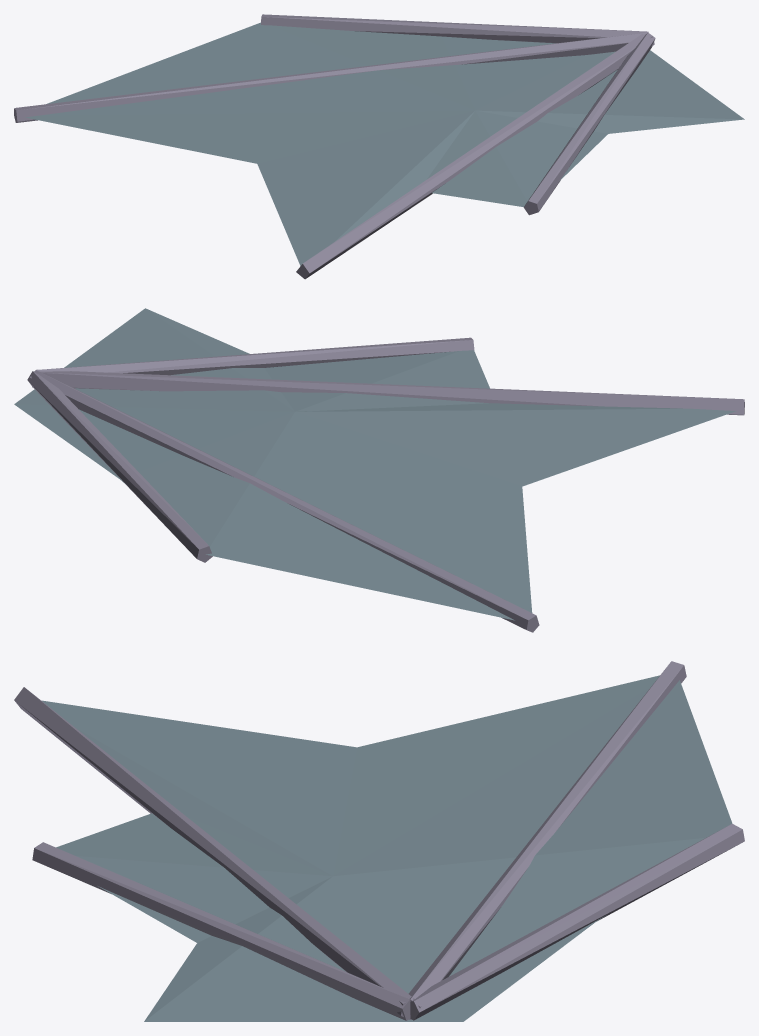
The model's file is wing_l_lod1.glb.
3 renders of one model, top to bottom at view 1: azimuth 30°, elevation 25°; view 2: azimuth 150°, elevation 25°; view 3: azimuth 270°, elevation 25°, orthographic. The views are drawn at different scales.
Visible parts, largest first — view 1: devil_wing_l_LOD1; view 2: devil_wing_l_LOD1; view 3: devil_wing_l_LOD1.
Part boxes in pixels (box(x1,y1,x2,y2)): devil_wing_l_LOD1: box(14, 14, 744, 279); devil_wing_l_LOD1: box(14, 308, 744, 632); devil_wing_l_LOD1: box(14, 661, 744, 1021).
Bounding box in the file's own units: 6.48 × 0.3499 × 5.49.
